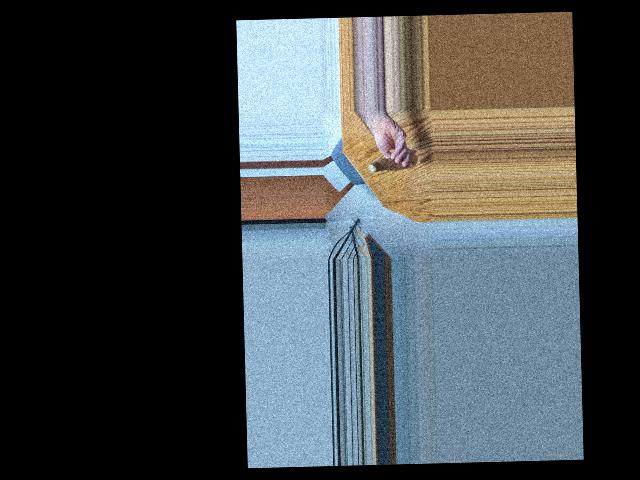sweet_potato: (363, 155, 417, 172)
